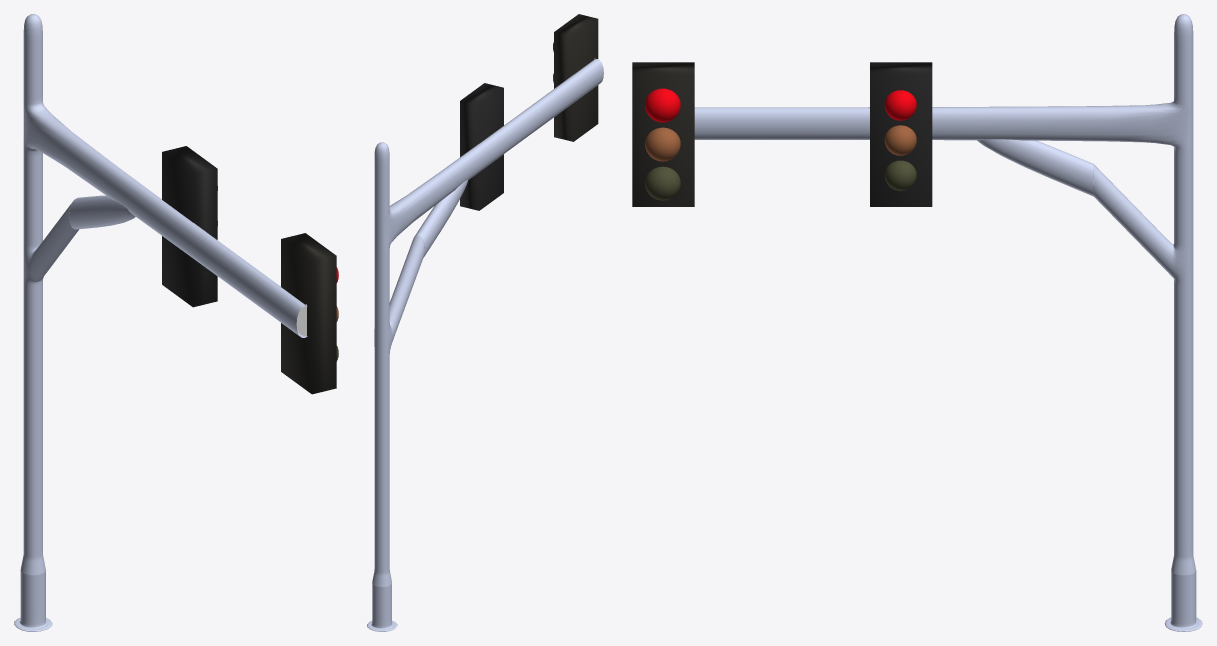
Rendered from stoplicht._.fbx.
The picture shows the model from 3 angles, left to right: view 1: azimuth 30°, elevation 25°; view 2: azimuth 150°, elevation 25°; view 3: azimuth 270°, elevation 25°; orthographic projection. The views are drawn at different scales.
Visible parts, largest first — view 1: Cube, Cube.002, Cube.001; view 2: Cube, Cube.002, Cube.001; view 3: Cube, Cube.001, Cube.002, Sphere.001, Sphere.
Boxes of the visible parts, x1,y1,x2,y2 form: Cube: [14, 14, 307, 631]; Cube.002: [281, 233, 336, 394]; Cube.001: [162, 146, 217, 307]; Cube: [367, 59, 603, 631]; Cube.002: [554, 14, 598, 141]; Cube.001: [460, 83, 503, 210]; Cube: [694, 14, 1202, 631]; Cube.001: [870, 62, 932, 206]; Cube.002: [632, 62, 694, 206]; Sphere.001: [645, 88, 680, 200]; Sphere: [884, 90, 916, 190].
Size of the model in its own units: 333 by 3279 by 2777.
